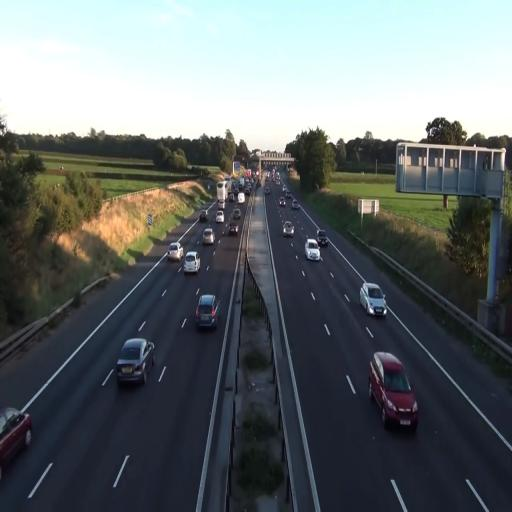vehicle: (369, 350, 419, 432), (0, 406, 33, 479), (116, 337, 155, 388), (195, 293, 220, 331), (360, 282, 386, 317), (183, 250, 200, 276), (304, 238, 321, 262), (167, 242, 184, 264), (202, 226, 216, 246), (227, 218, 240, 237), (316, 230, 328, 248), (282, 220, 294, 237)
